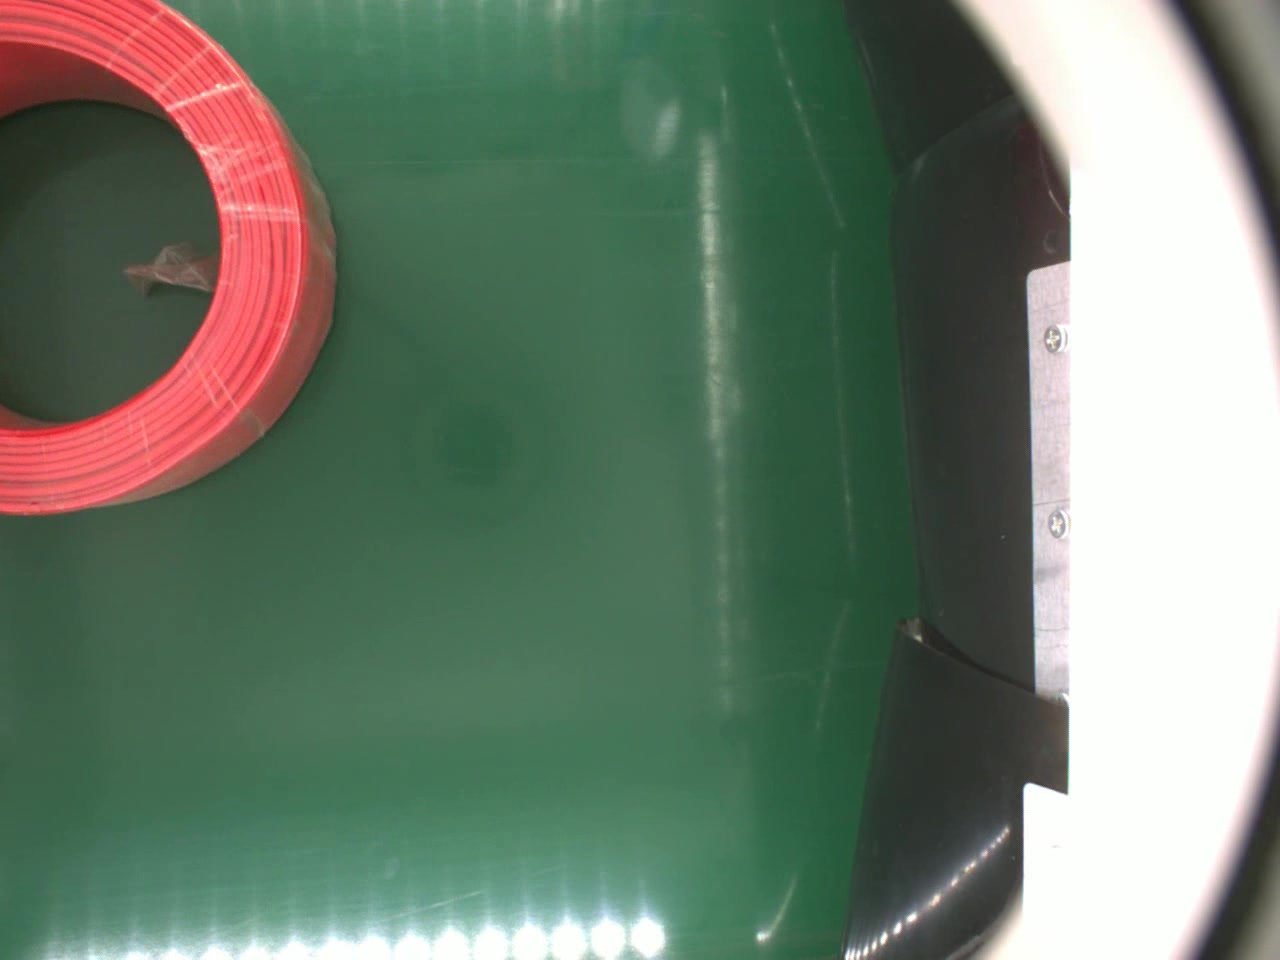red: (0, 0, 336, 518)
